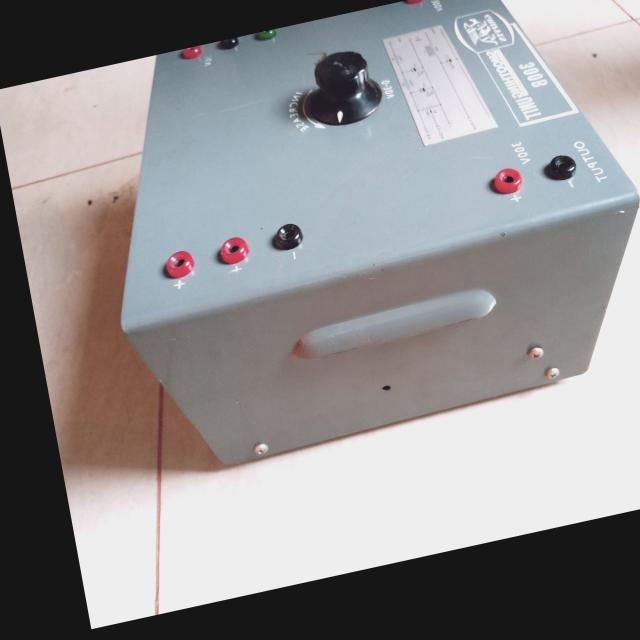Smoothing Unit: (71, 0, 640, 514)
